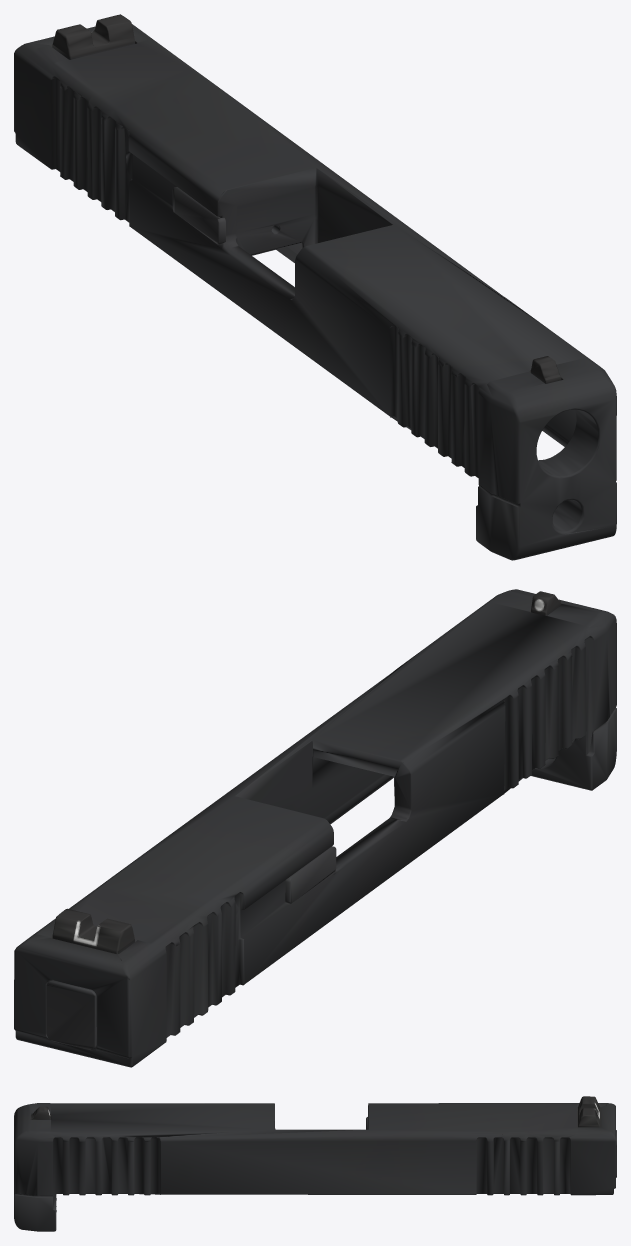
The model's file is SM_G17_Slide_LOD1.fbx.
3 views of the same model, one above another, from view 1: azimuth 30°, elevation 25°; view 2: azimuth 150°, elevation 25°; view 3: azimuth 270°, elevation 25° (orthographic). The views are drawn at different scales.
Visible parts, largest first — view 1: SM_G17_Slide_LOD1; view 2: SM_G17_Slide_LOD1; view 3: SM_G17_Slide_LOD1.
Boxes of the visible parts, x1,y1,x2,y2 form: SM_G17_Slide_LOD1: (14,14,616,560); SM_G17_Slide_LOD1: (14,589,616,1067); SM_G17_Slide_LOD1: (14,1096,616,1231).
Size of the model in its own units: 2.56 by 18.8 by 3.76.
